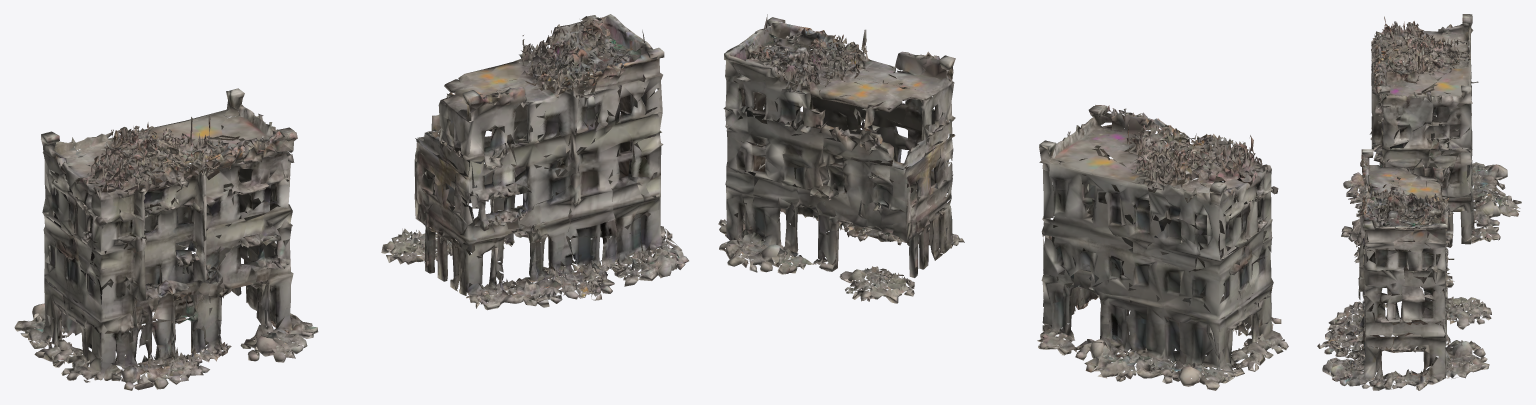
The model's file is building2.glb.
3 views of the same model, side by side, from view 1: azimuth 30°, elevation 25°; view 2: azimuth 150°, elevation 25°; view 3: azimuth 270°, elevation 25° (orthographic). The views are drawn at different scales.
Visible parts, largest first — view 1: Object_4; view 2: Object_4; view 3: Object_4.
Boxes of the visible parts, x1,y1,x2,y2 form: Object_4: (14,14,688,390); Object_4: (718,14,1288,390); Object_4: (1317,14,1521,390).
Bounding box in the file's own units: 1.99 × 0.7113 × 0.7589.
Materials: 1 (1 with a texture image).
